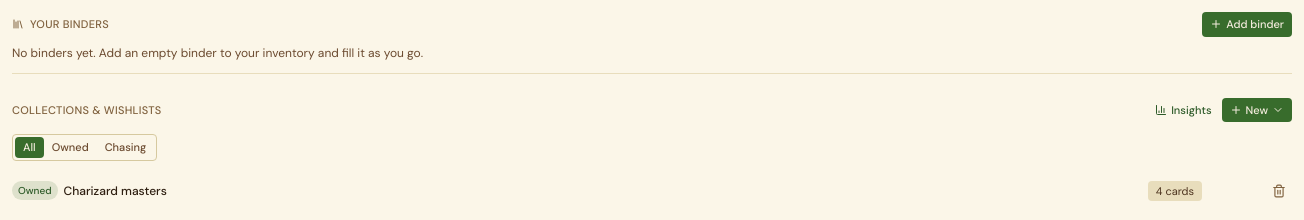
Scenario: LibraryBindersTab › deletes a collection after the inline confirm
Check: the text "Charizard masters" is shown, box [64, 183, 167, 199]
Click the button named "delete collection \"Charizard masters\"" at (1279, 191), box [1266, 178, 1292, 204]
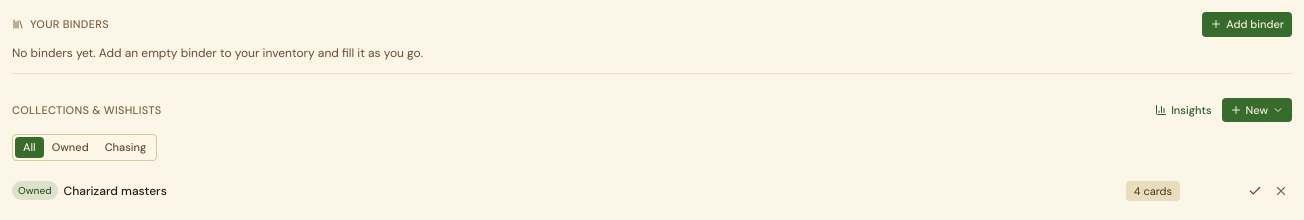
Click the button named "confirm delete collection \"Charizard masters\"" at (1255, 191), box [1244, 180, 1266, 202]
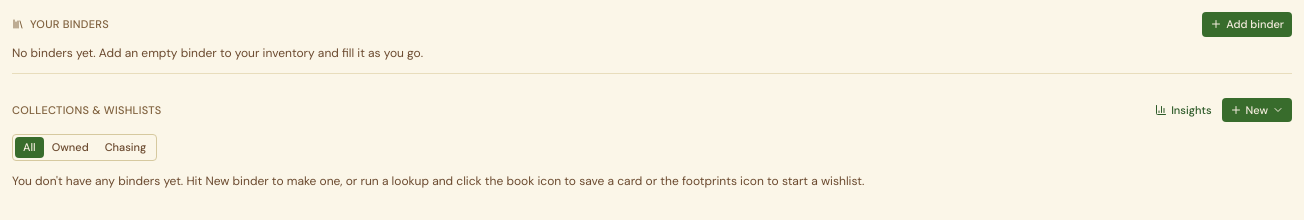
Check: the button "Charizard masters" is gone
